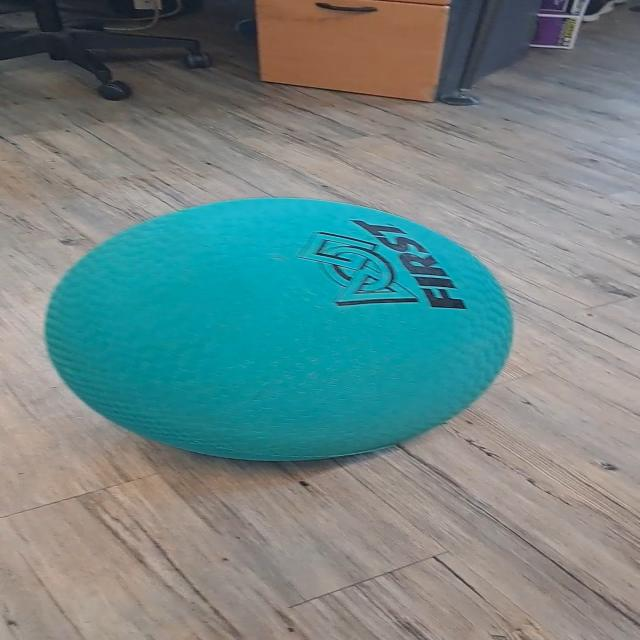ALGAE: (41, 195, 515, 462)
